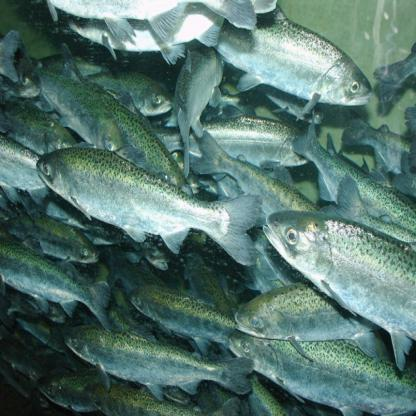fish: (32, 144, 264, 268), (182, 3, 374, 125), (224, 321, 416, 415), (62, 318, 250, 400), (129, 282, 266, 361), (166, 36, 241, 176)
